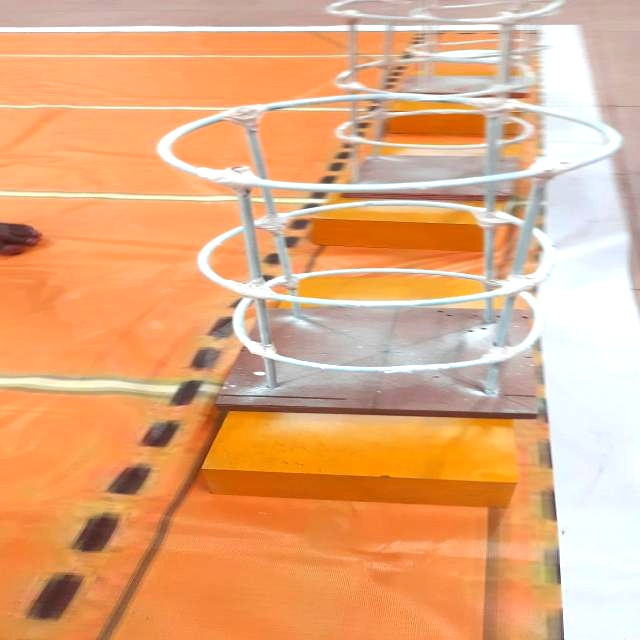silo: (171, 96, 569, 419), (304, 0, 560, 177)
